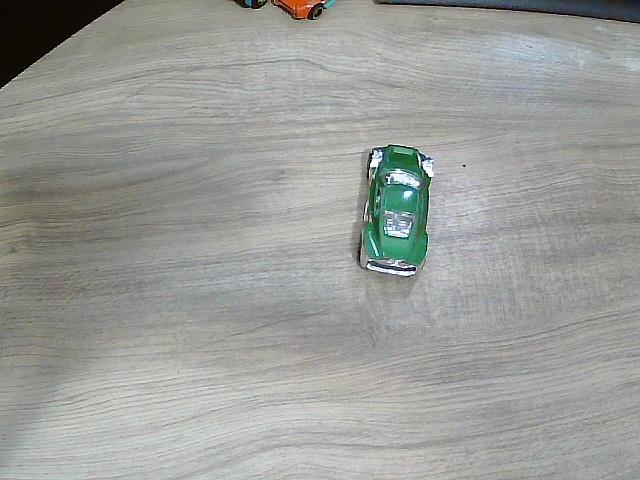Carro: (360, 146, 432, 277), (233, 0, 341, 22)
